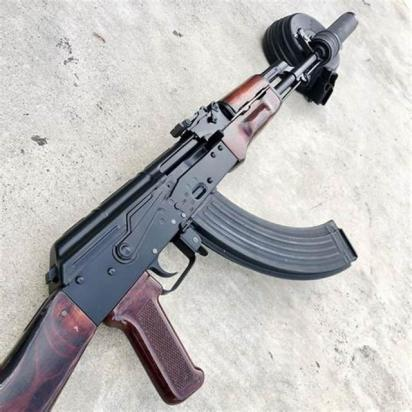Gun: (0, 9, 368, 410)
